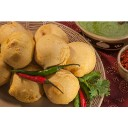bonda: (46, 71, 80, 105), (37, 35, 69, 67), (68, 42, 96, 78), (3, 36, 34, 68), (11, 72, 44, 102)
